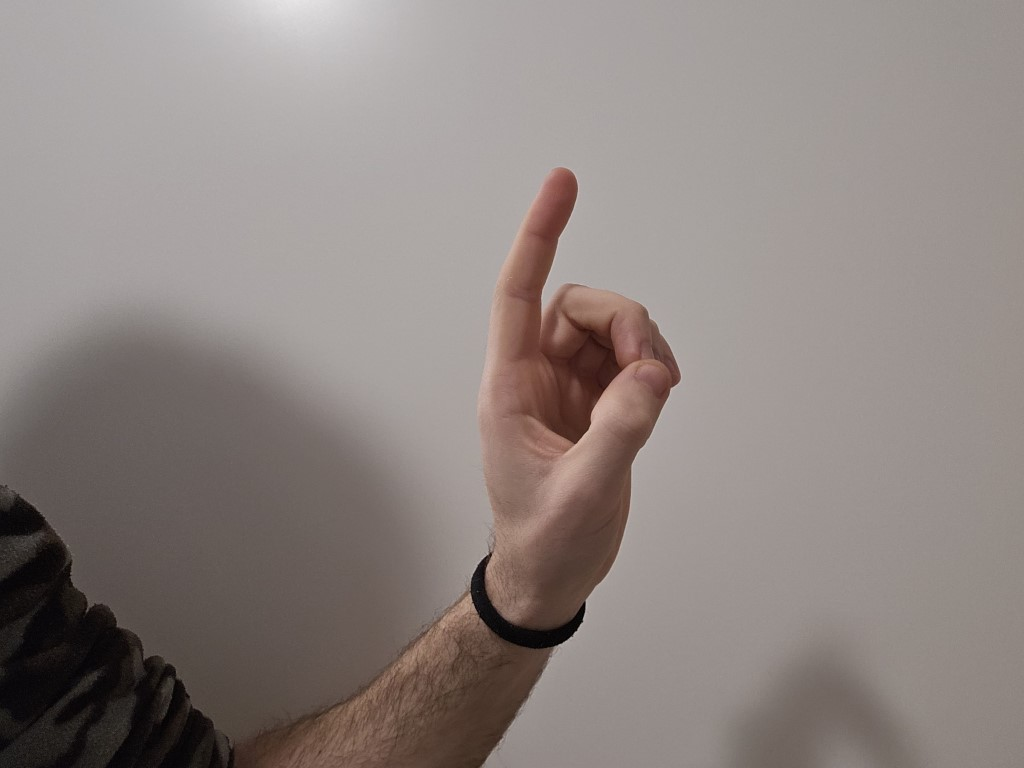d: (459, 150, 698, 577)
